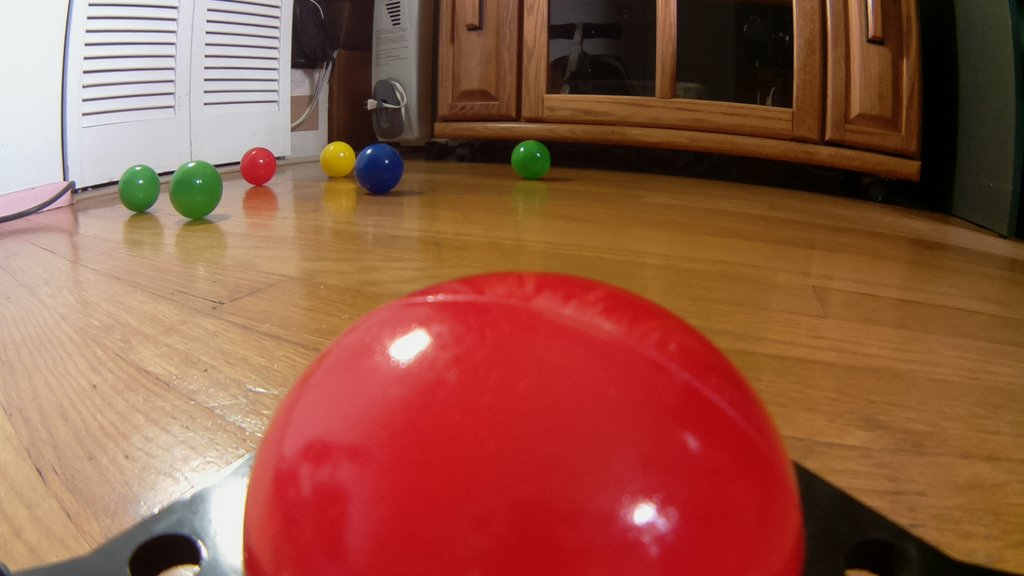ball: (116, 163, 161, 212)
